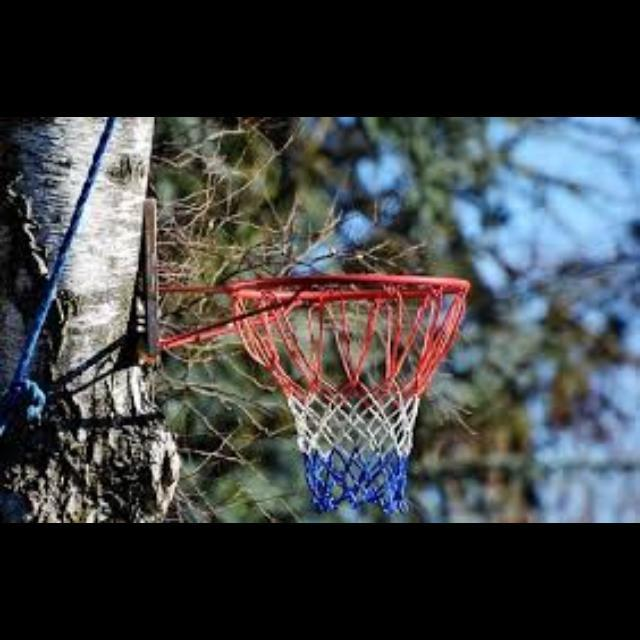rim: (235, 273, 470, 513)
